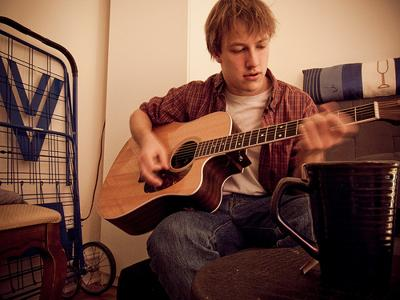person: (130, 2, 346, 299)
